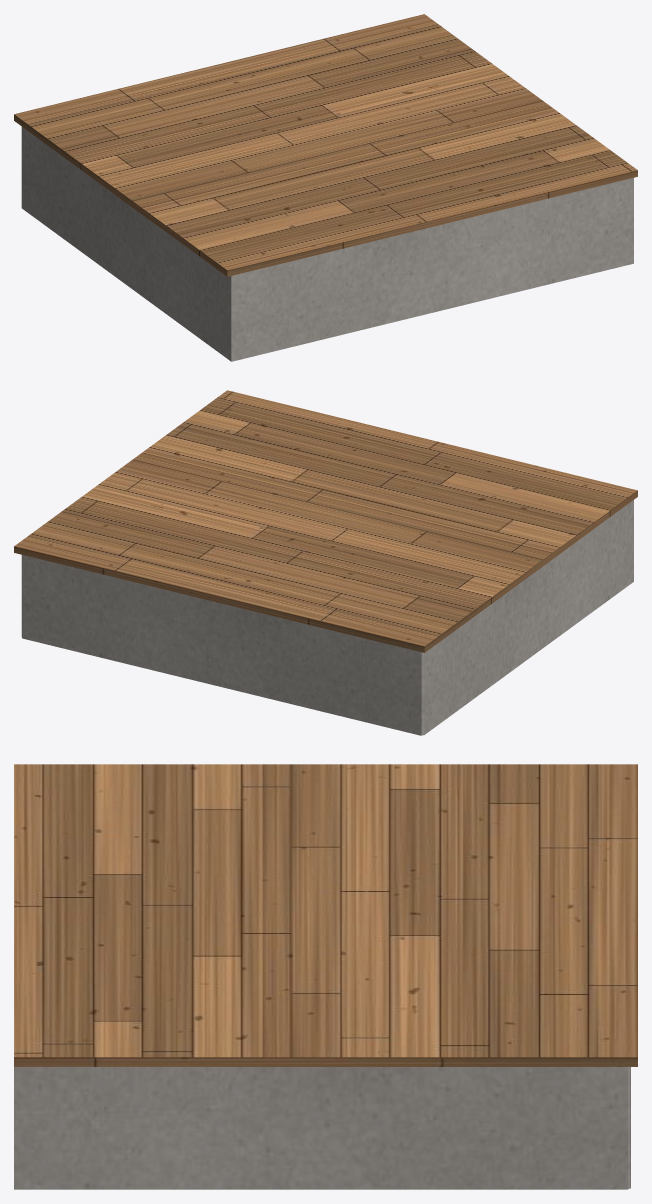
Rendered from floor_wood_e0_0_0_20.glb.
3 renders of one model, top to bottom at view 1: azimuth 30°, elevation 25°; view 2: azimuth 150°, elevation 25°; view 3: azimuth 270°, elevation 25°, orthographic. The views are drawn at different scales.
Visible parts, largest first — view 1: floor_wood_e0_0_0_20_floor, floor_wood_e0_0_0_20_concrete; view 2: floor_wood_e0_0_0_20_floor, floor_wood_e0_0_0_20_concrete; view 3: floor_wood_e0_0_0_20_floor, floor_wood_e0_0_0_20_concrete.
Part boxes in pixels (x1,y1,x2,y2): floor_wood_e0_0_0_20_floor: (14, 14, 637, 276); floor_wood_e0_0_0_20_concrete: (21, 126, 633, 361); floor_wood_e0_0_0_20_floor: (14, 390, 637, 652); floor_wood_e0_0_0_20_concrete: (21, 500, 633, 735); floor_wood_e0_0_0_20_floor: (14, 764, 637, 1066); floor_wood_e0_0_0_20_concrete: (14, 1067, 630, 1189).
Bounding box in the file's own units: 2 × 0.43 × 1.8.
Materials: 2 (2 with a texture image).
